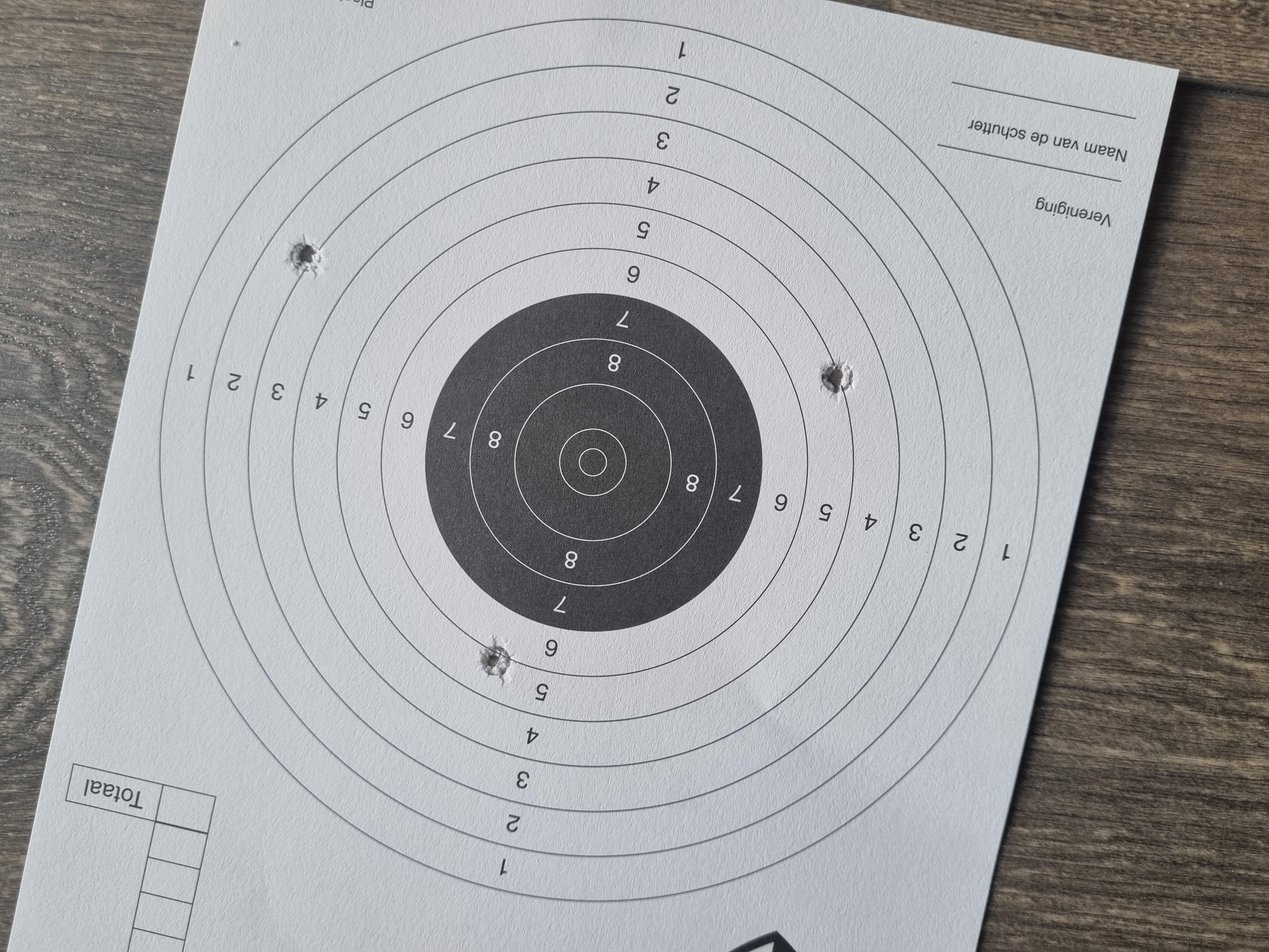hole: (897, 216, 955, 246), (739, 612, 792, 644), (362, 359, 413, 383)
